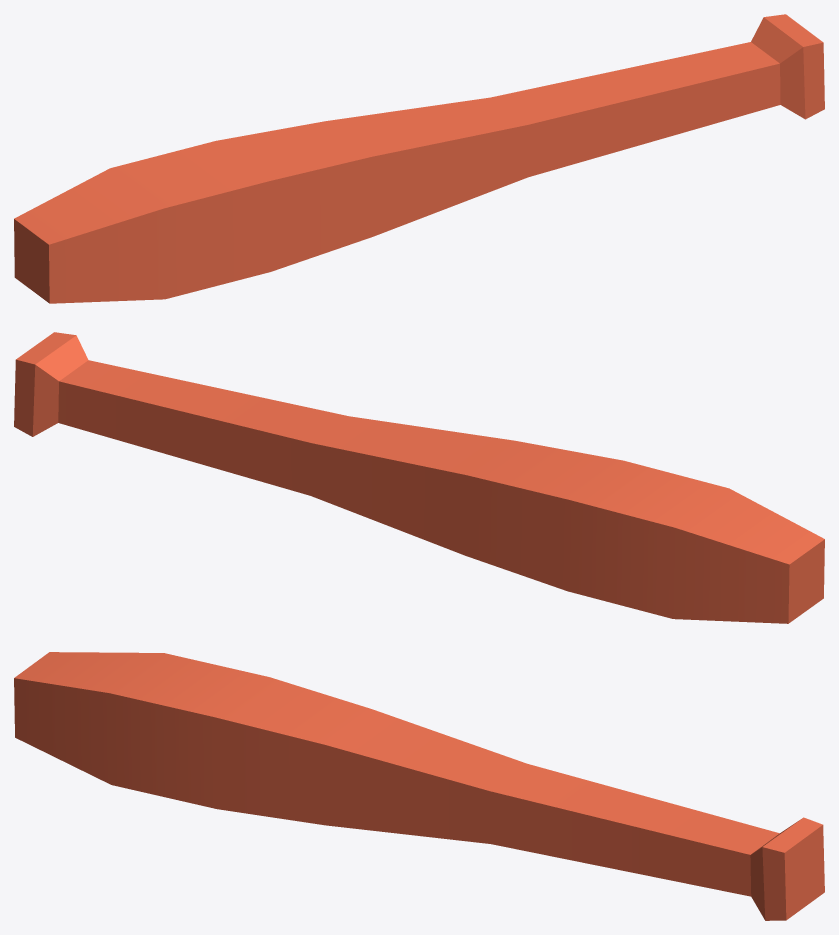
File: baseball bat.FBX
The picture shows the model from 3 angles, top to bottom: view 1: azimuth 30°, elevation 25°; view 2: azimuth 150°, elevation 25°; view 3: azimuth 330°, elevation 25°; orthographic projection.
Visible parts, largest first — view 1: Box030; view 2: Box030; view 3: Box030.
Boxes of the visible parts, <box> form: Box030: <box>14,14,824,303</box>; Box030: <box>14,332,824,623</box>; Box030: <box>14,652,824,920</box>.
Size of the model in its own units: 14.92 by 1.73 by 1.82.
